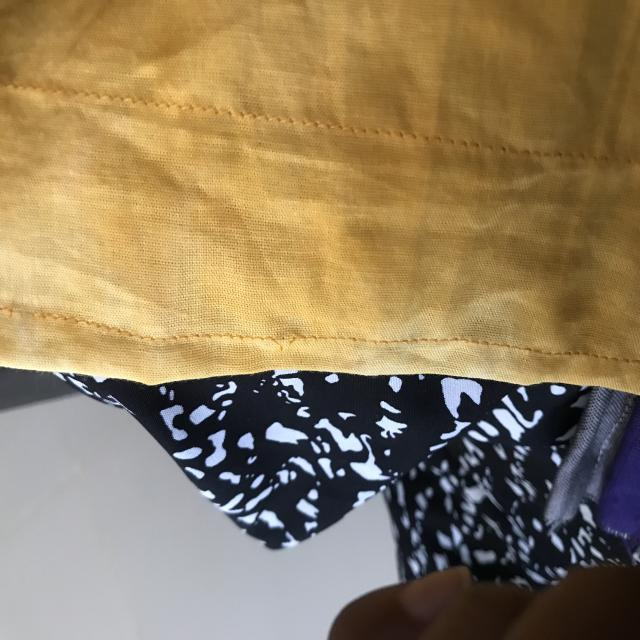broken: (266, 314, 305, 361)
